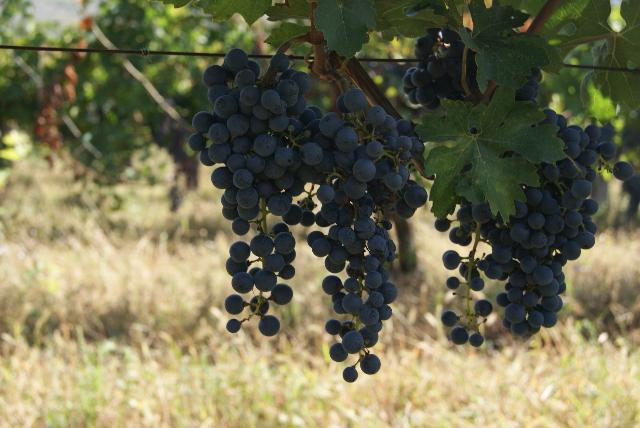grapes: (189, 49, 325, 336), (298, 89, 428, 381), (490, 116, 616, 336)
